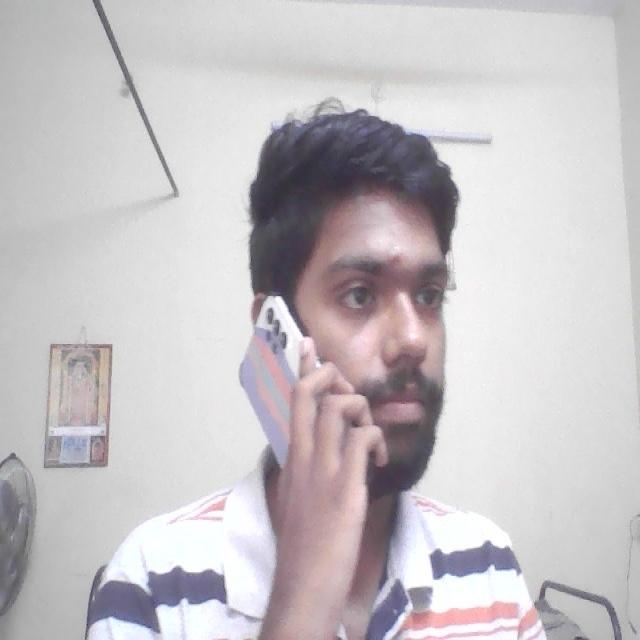Mobile: (232, 281, 323, 472)
